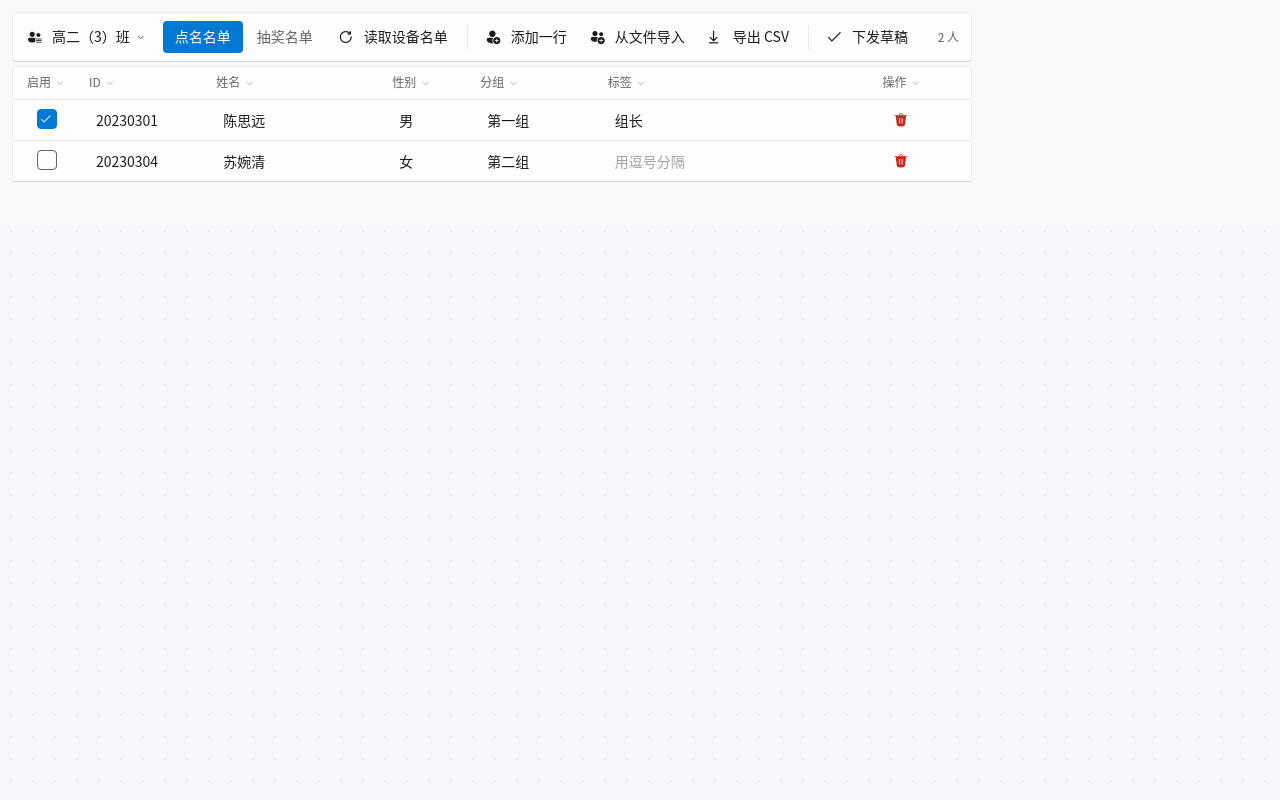
Test: ClientRosterPanel 添加一行对话框 › 「添加一行」开的是对话框：遮罩 + 卡片 + 标题 + 学生那几格 + 取消/确认
The width and height of the screenshot is (1280, 800).
Click the button with test id "roster-add" at (527, 37), box [476,17,578,57]
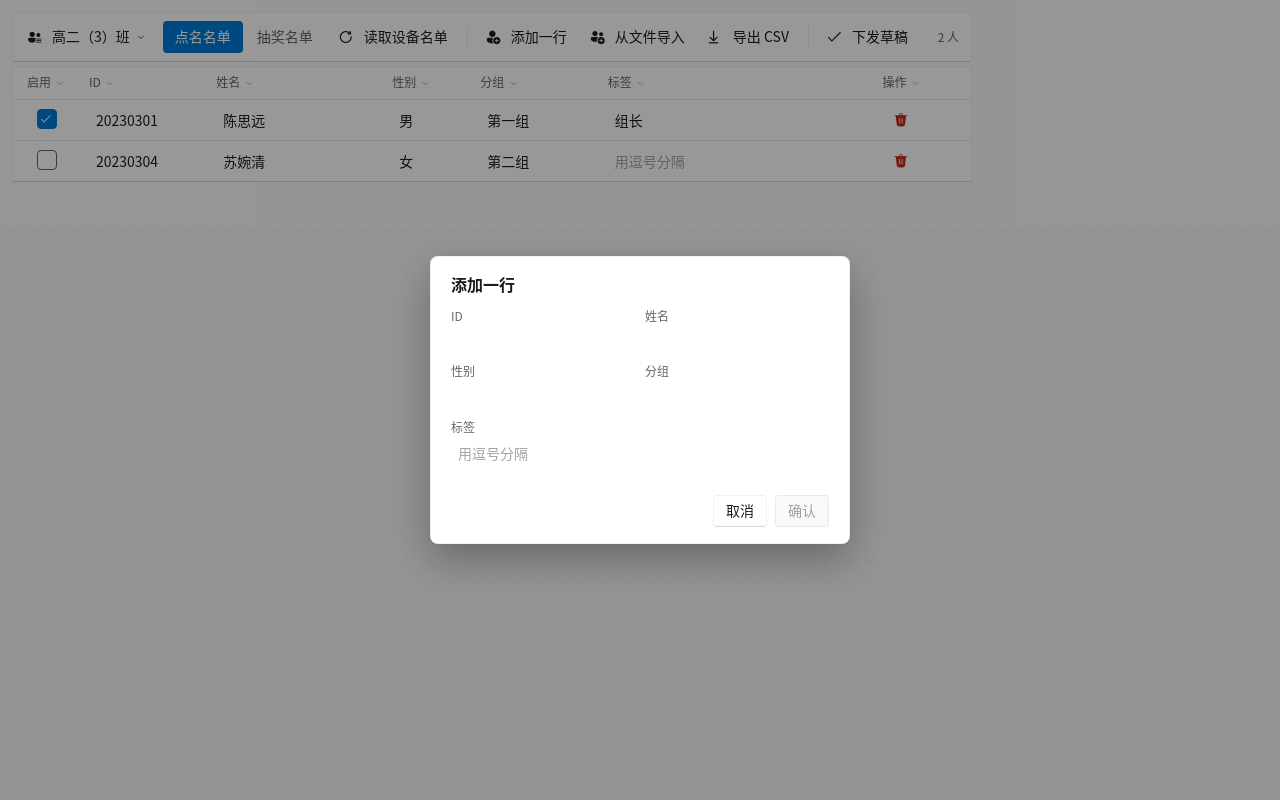
Result: the element with class "cn-dialog__scrim" is shown
Result: the element with class "cn-dialog__card" is shown at [430,256,850,544]
Result: the heading with class "cn-dialog__title" reads "添加一行" at [451,272,515,296]
